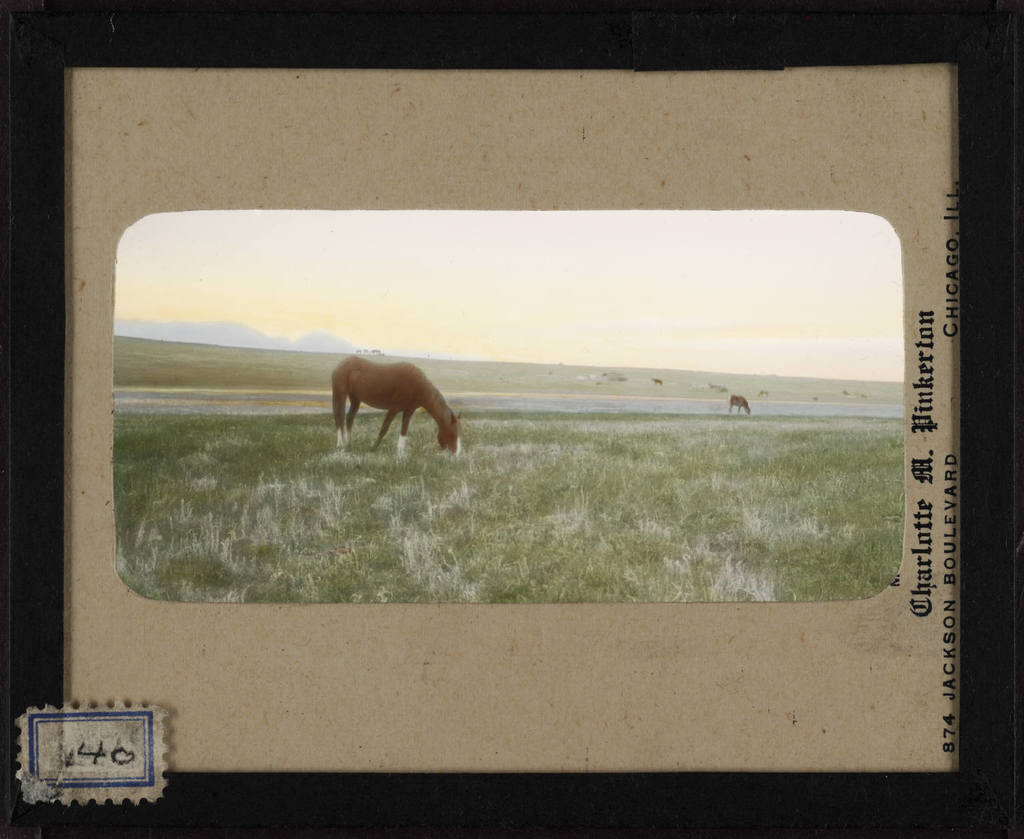horse: (329, 355, 462, 461), (729, 396, 749, 413)
